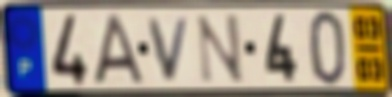0: (307, 8, 348, 88)
4: (50, 11, 92, 88), (263, 12, 300, 85)
A: (92, 12, 146, 86)
N: (194, 12, 246, 86)
V: (146, 15, 194, 84)
